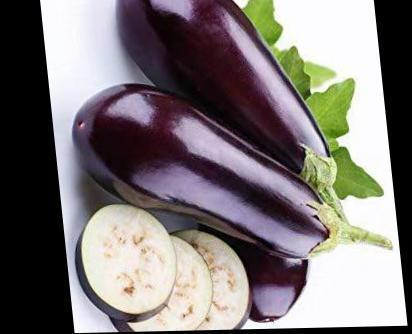eggplant: (52, 0, 386, 332)
